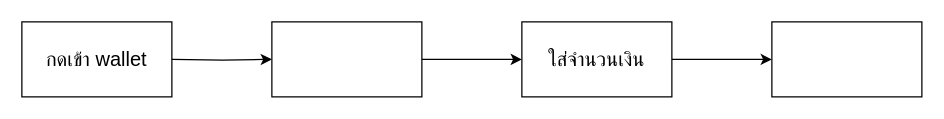
Some shapes in this 944 by 119 pixel diagram are drawn without their labels. Each missing label, with the centre of its shape:
"กดยืนยัน" goes at point (846, 59).
"เลือกช่องทางเติมเงินผ่านธนาคาร" goes at point (346, 59).
